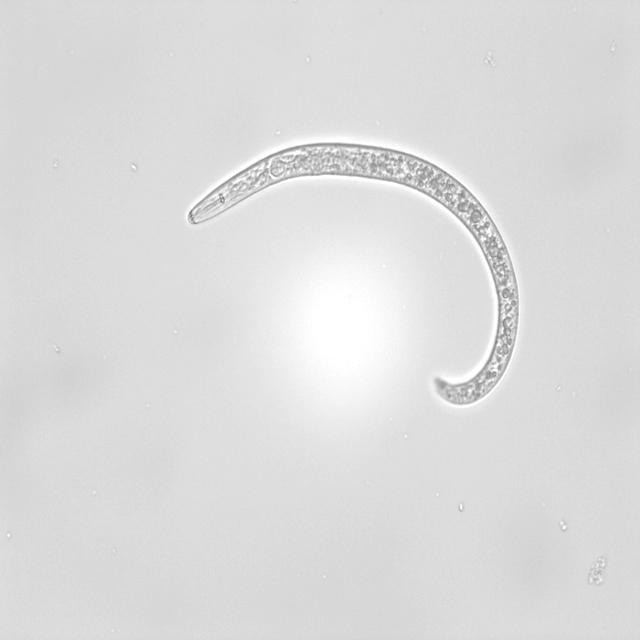Helicotylenchus: (174, 135, 526, 410)
